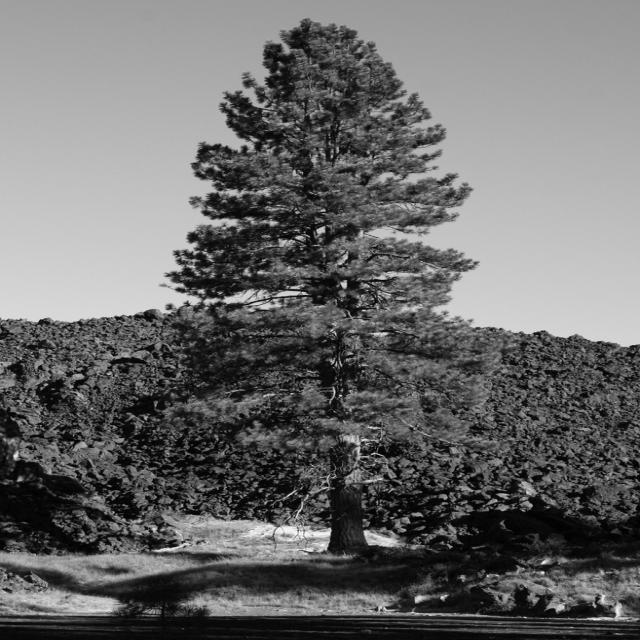Pinus jeffreyi: (156, 16, 521, 555)
